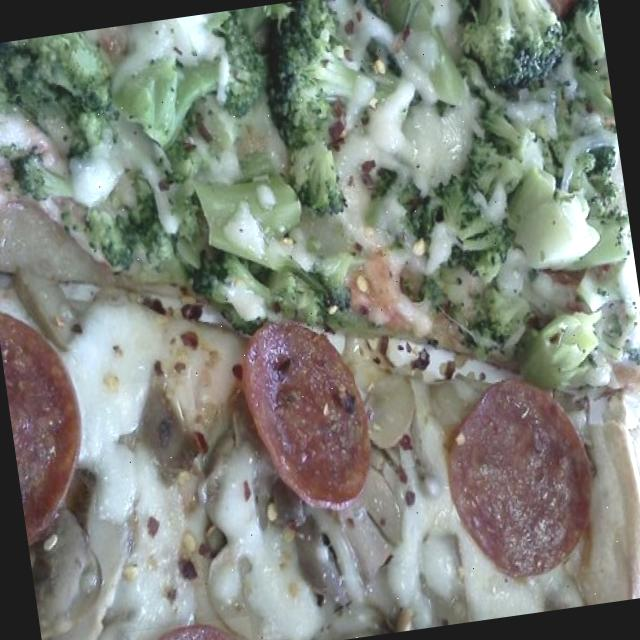mushrooms: (0, 187, 110, 360), (251, 463, 372, 612), (26, 514, 131, 640), (117, 374, 208, 508), (352, 356, 426, 472), (347, 446, 415, 568)
pepperoni: (208, 284, 382, 536), (431, 362, 613, 590), (0, 297, 106, 546), (119, 614, 254, 640)
pizza: (0, 0, 640, 640)
